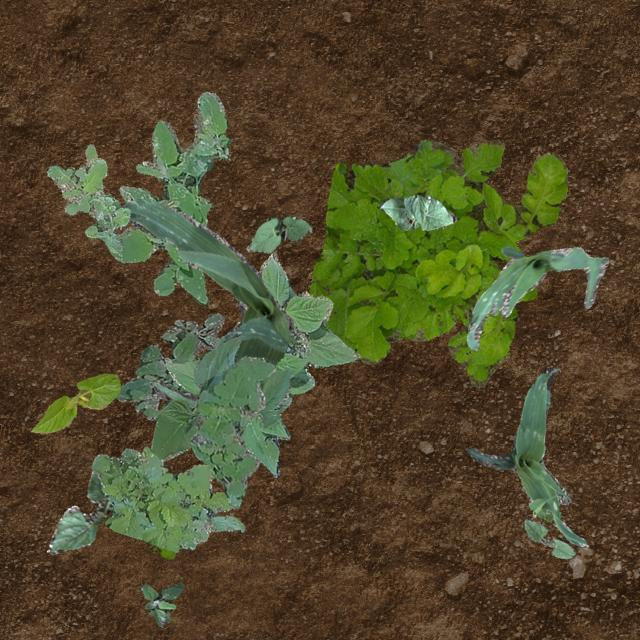crop: (164, 250, 358, 476), (120, 198, 292, 406), (465, 367, 587, 546), (150, 332, 290, 460), (466, 246, 608, 350), (46, 469, 112, 554), (30, 372, 120, 432), (378, 193, 456, 230), (246, 215, 310, 252), (524, 518, 574, 558)
weed: (308, 138, 568, 386), (106, 90, 230, 304), (90, 446, 244, 550), (188, 356, 274, 508), (115, 312, 224, 420), (46, 144, 130, 252), (140, 582, 182, 626), (150, 544, 174, 558)
